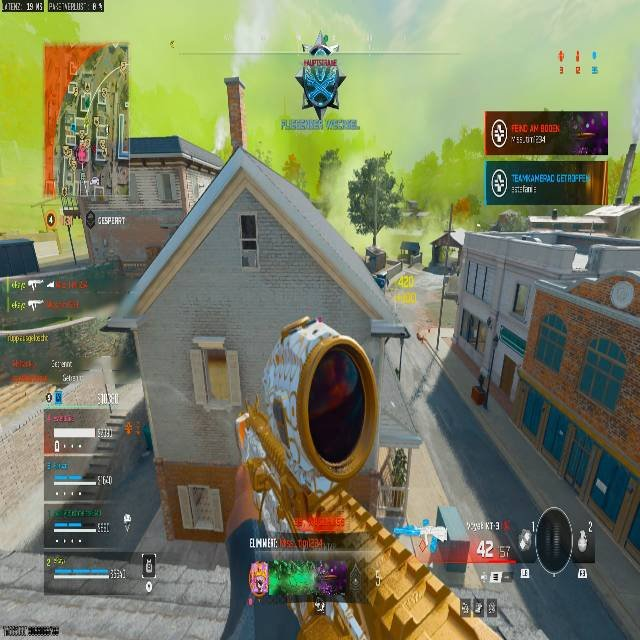head: (248, 314, 381, 470)
player: (213, 307, 563, 639), (294, 38, 345, 119)
